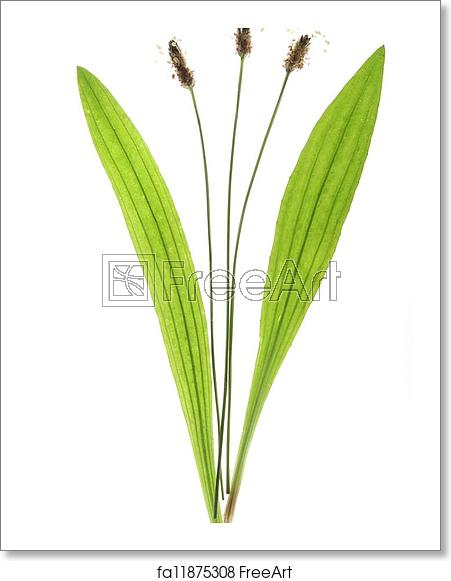buckhorn plantain: (87, 24, 361, 395)
